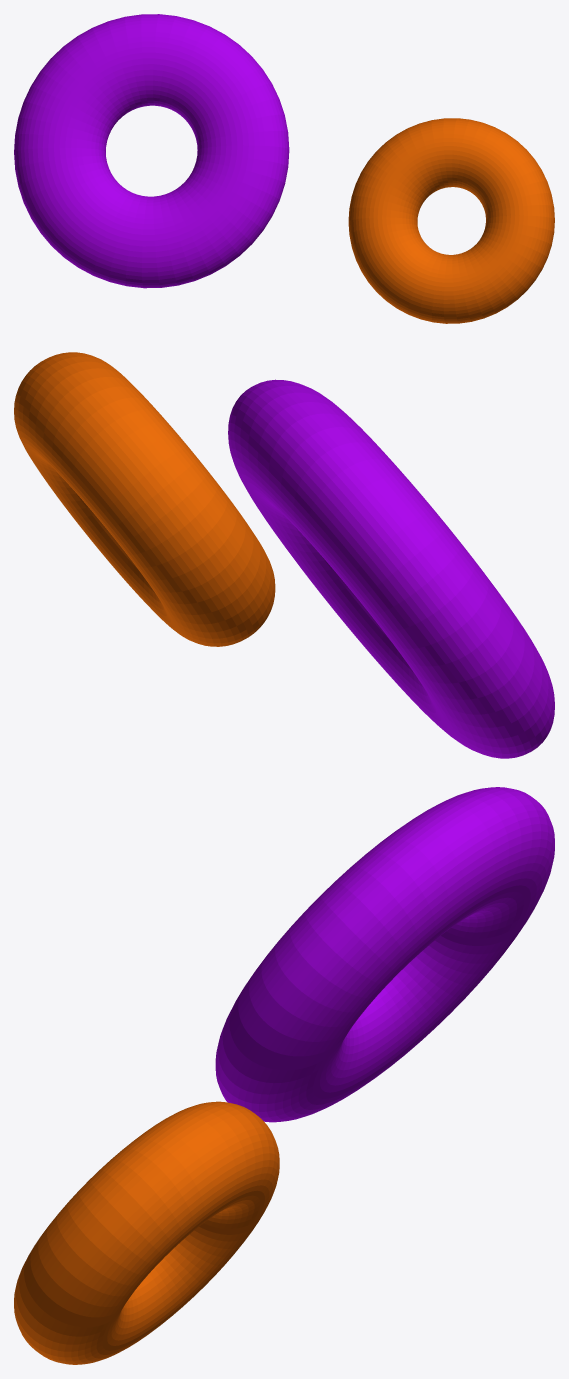
File: donut.glb
3 renders of one model, top to bottom at view 1: azimuth 30°, elevation 25°; view 2: azimuth 150°, elevation 25°; view 3: azimuth 270°, elevation 25°, orthographic. The views are drawn at different scales.
Visible parts, largest first — view 1: Torus.001, Torus; view 2: Torus.001, Torus; view 3: Torus.001, Torus.
Part boxes in pixels (x1,y1,x2,y2): Torus.001: (14, 14, 289, 288); Torus: (348, 118, 554, 323); Torus.001: (228, 379, 554, 758); Torus: (14, 352, 275, 646); Torus.001: (215, 787, 554, 1122); Torus: (14, 1101, 279, 1364).
Bounding box in the file's own units: 6.89 × 4.19 × 5.01.
